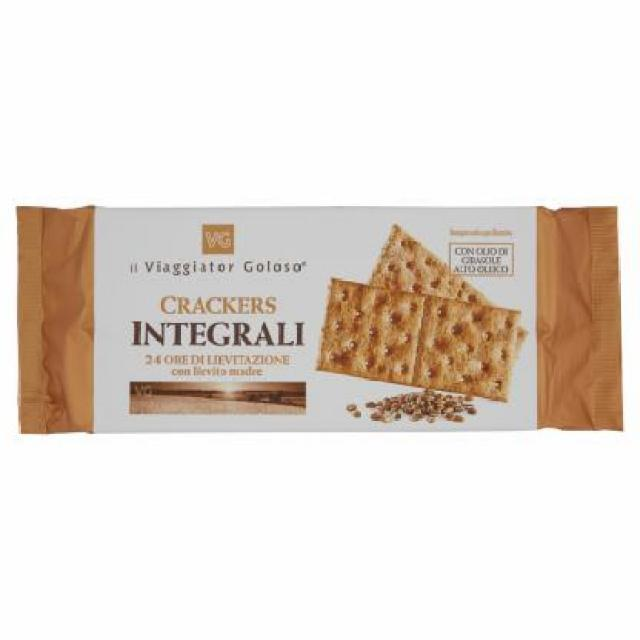Cracker: (8, 194, 630, 443)
